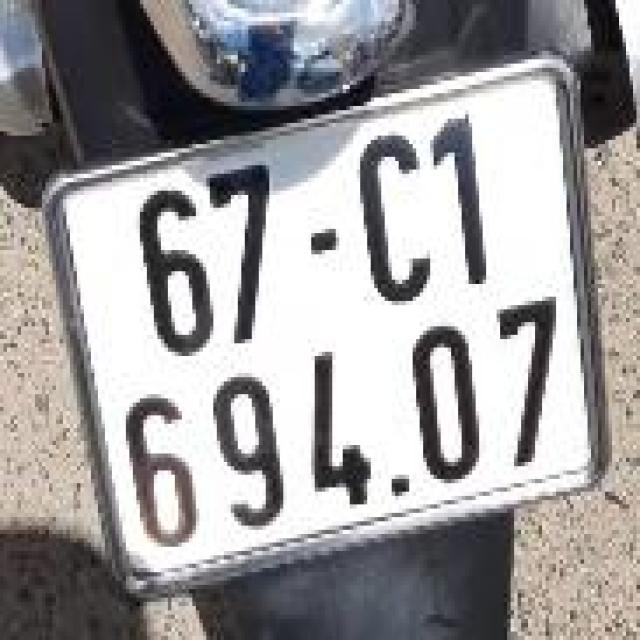0: (401, 318, 493, 493)
1: (425, 102, 503, 300)
4: (295, 336, 381, 519)
6: (132, 180, 226, 371), (116, 380, 212, 563)
7: (203, 154, 289, 362), (489, 284, 568, 484)
9: (203, 364, 298, 542)
C: (352, 122, 442, 318)
